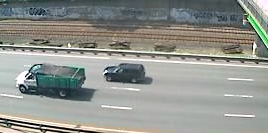car: (13, 62, 91, 100), (101, 62, 149, 86)
